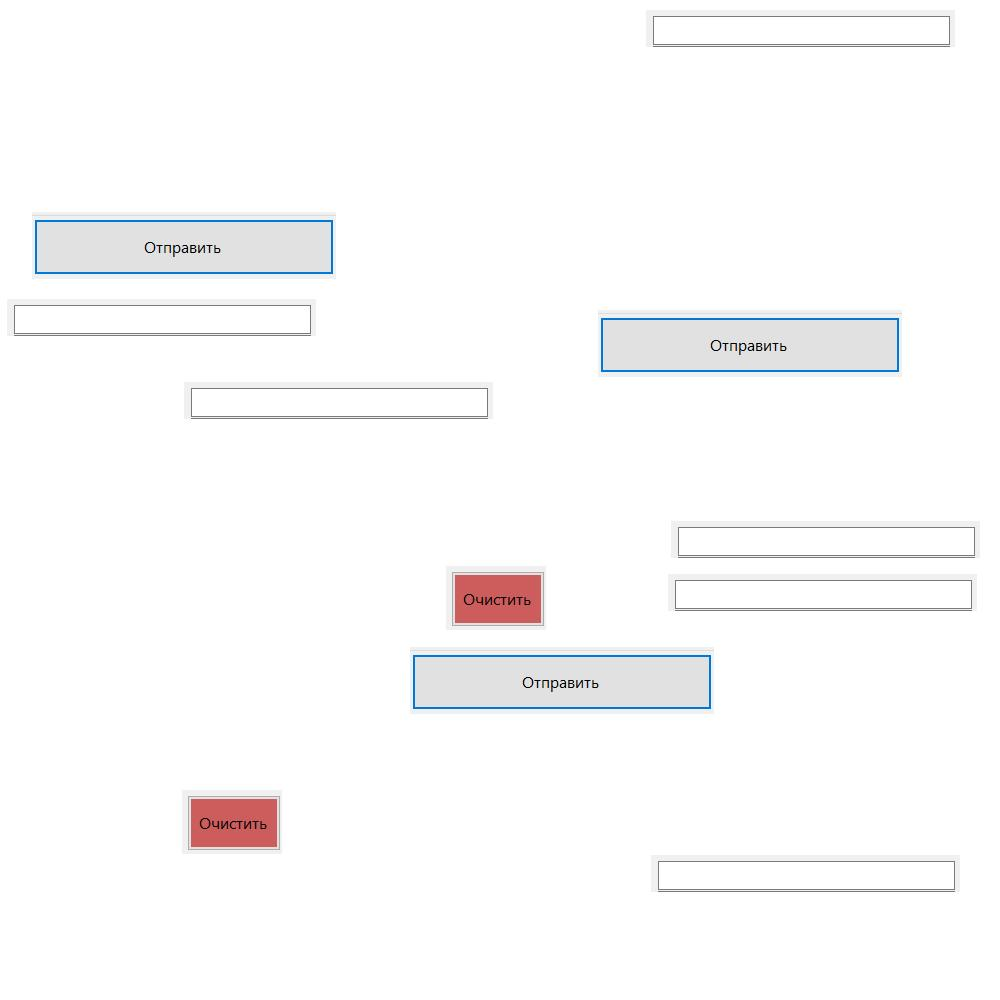Button: (598, 310, 902, 377), (410, 647, 714, 714), (32, 212, 336, 279), (182, 790, 282, 854), (446, 566, 546, 630)
EditText-: (651, 855, 960, 892), (7, 299, 316, 336), (646, 10, 955, 47), (668, 574, 977, 611), (671, 521, 980, 558), (184, 382, 493, 419)
